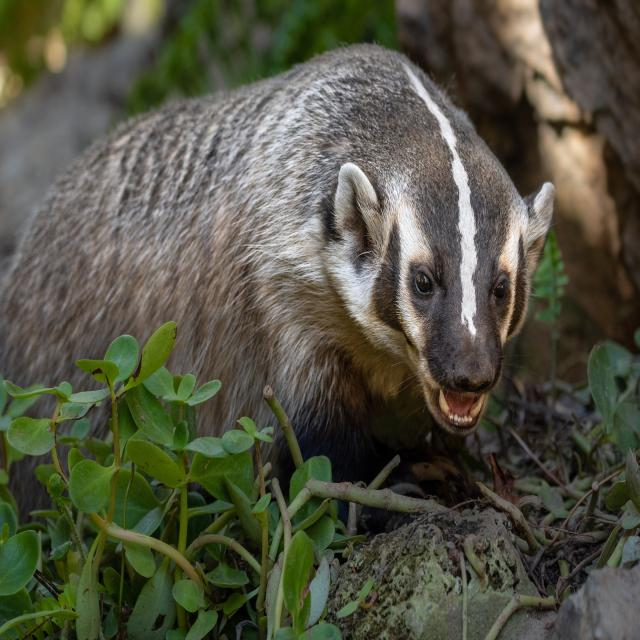Badger: (0, 47, 557, 450)
